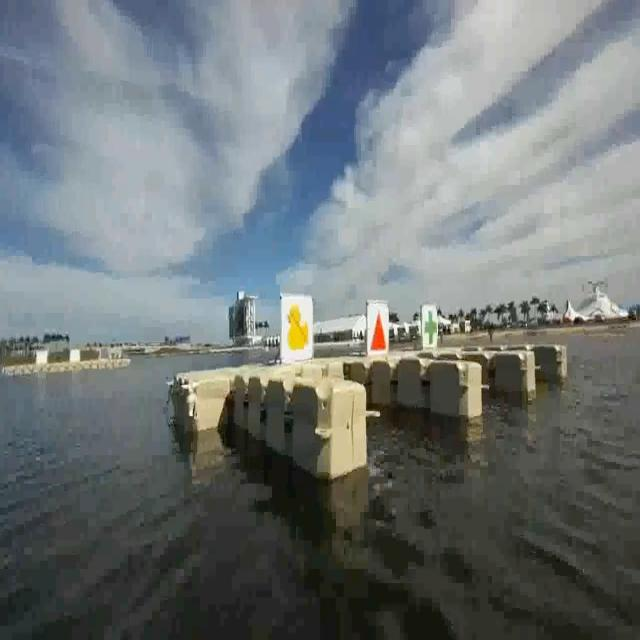blue-cross: (422, 302, 440, 351)
yellow-duck: (280, 292, 316, 361)
